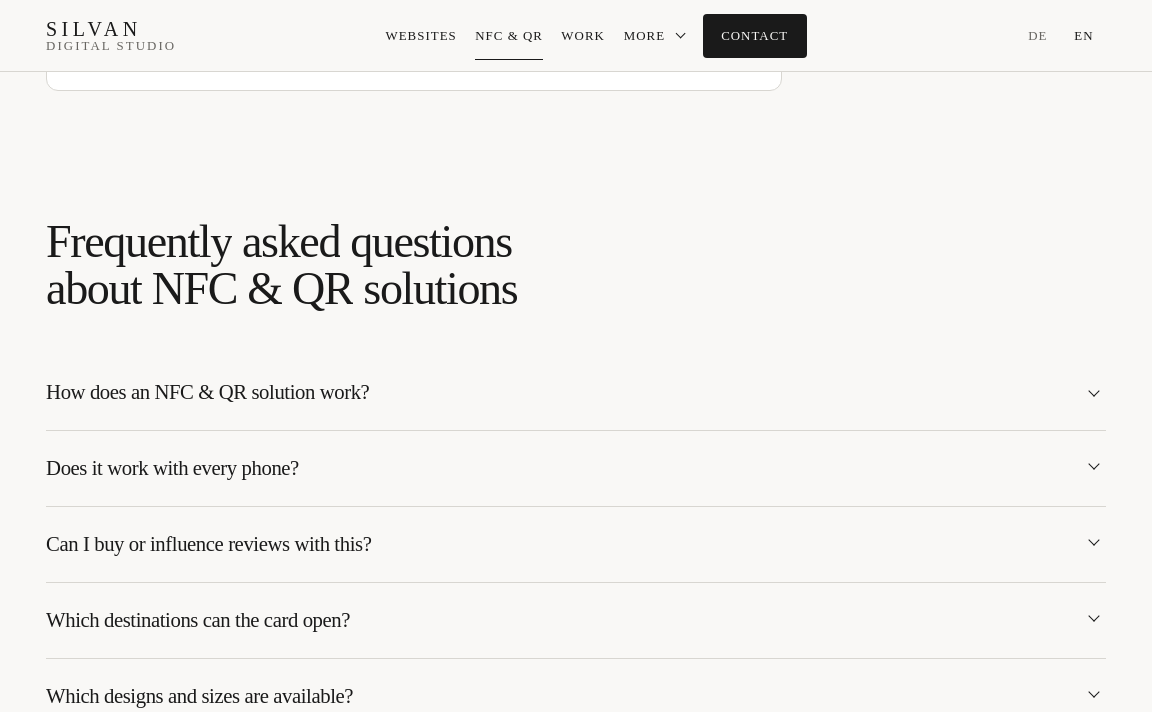
it: service page FAQs › renders every reviews (en) question with an accessible answer disclosure
(page scrolled)
expect the heading "Frequently asked questions about NFC & QR solutions" is shown: met, box [46,216,517,314]
What coordinates should you click on to do the following:
click the heading "How does an NFC & QR solution work?"
I would click on:
 (208, 392)
Its box is [46,382,369,404].
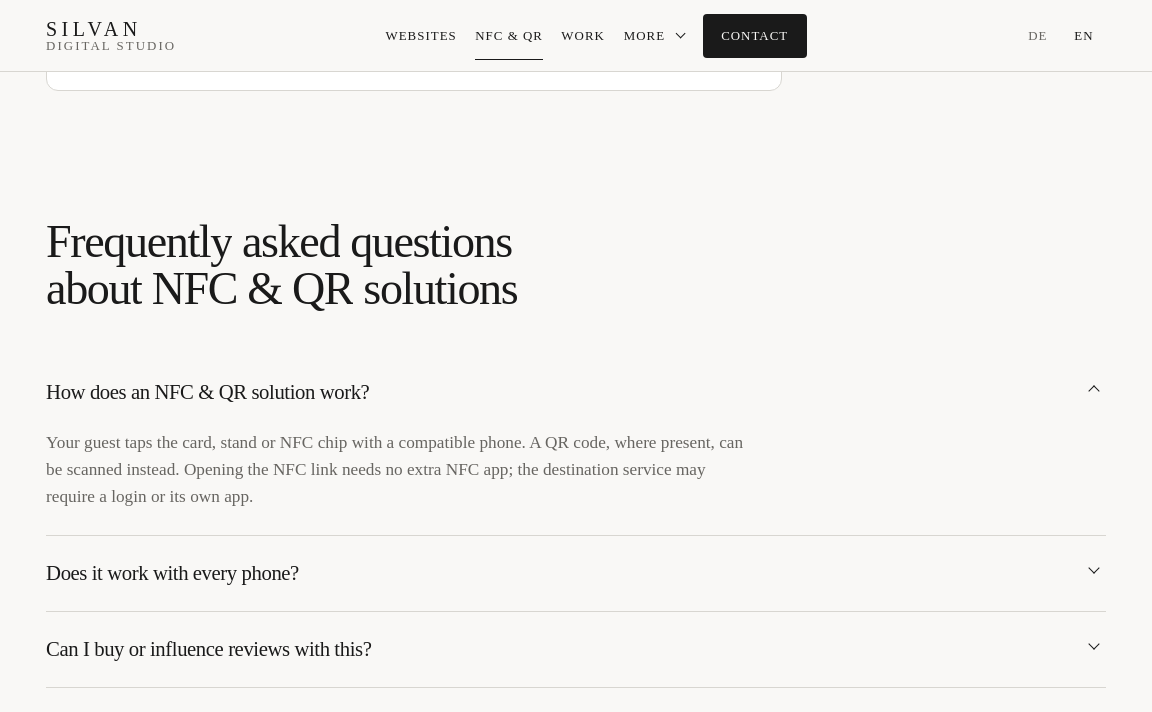
expect the text "Your guest taps the card, stand or NFC chip with a compatible phone. A QR code, where present, can be scanned instead. O" is shown: met, box [46,433,743,506]
What coordinates should you click on to do the following:
click the heading "Does it work with every phone?"
I would click on:
 (172, 573)
Its box is [46,562,299,584].
(page scrolled)
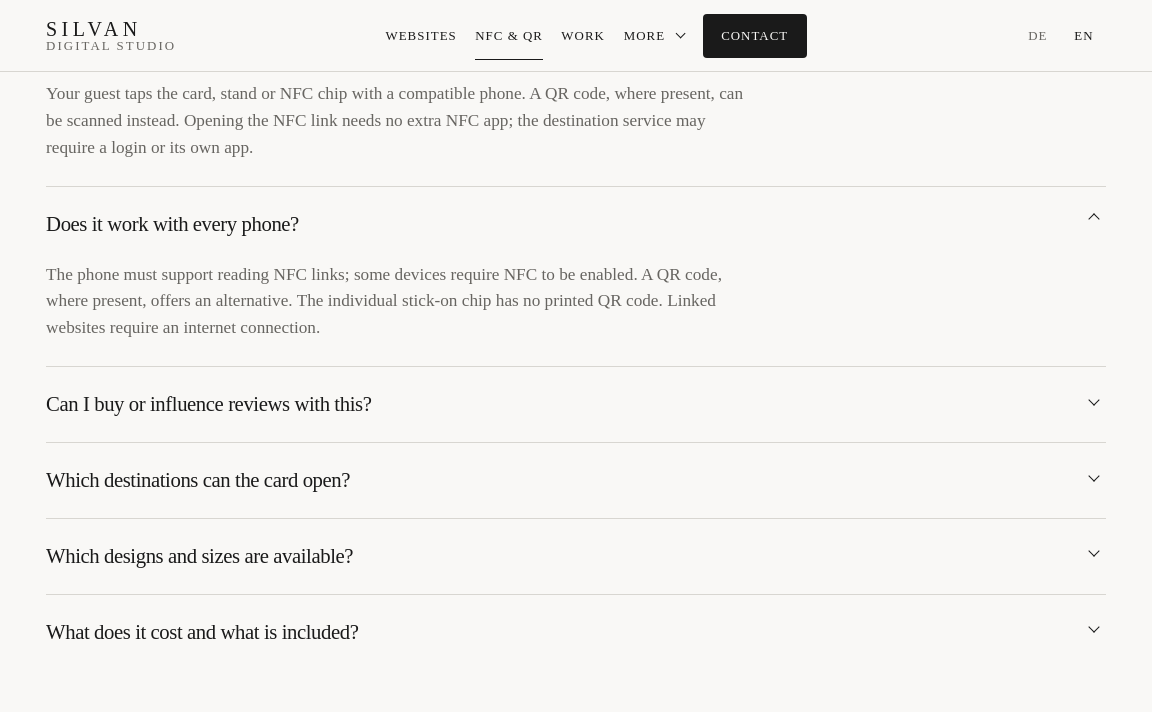
expect the text "The phone must support reading NFC links; some devices require NFC to be enabled. A QR code, where present, offers an al" is shown: met, box [46,265,722,337]
What coordinates should you click on to do the following:
click the heading "Can I buy or influence reviews with this?"
I would click on:
 (209, 404)
Its box is [46,393,371,415].
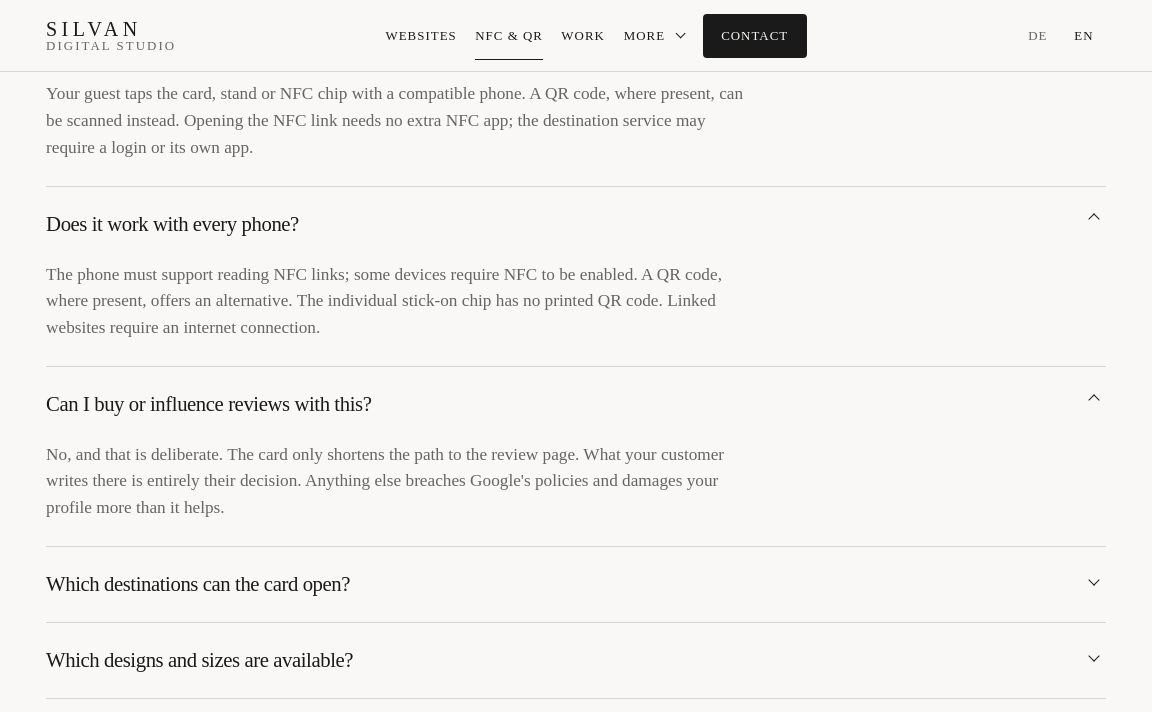
expect the text "No, and that is deliberate. The card only shortens the path to the review page. What your customer writes there is entir" is shown: met, box [46,445,724,517]
What coordinates should you click on to do the following:
click the heading "Which destinations can the card open?"
I would click on:
 (198, 584)
Its box is [46,573,350,595].
(page scrolled)
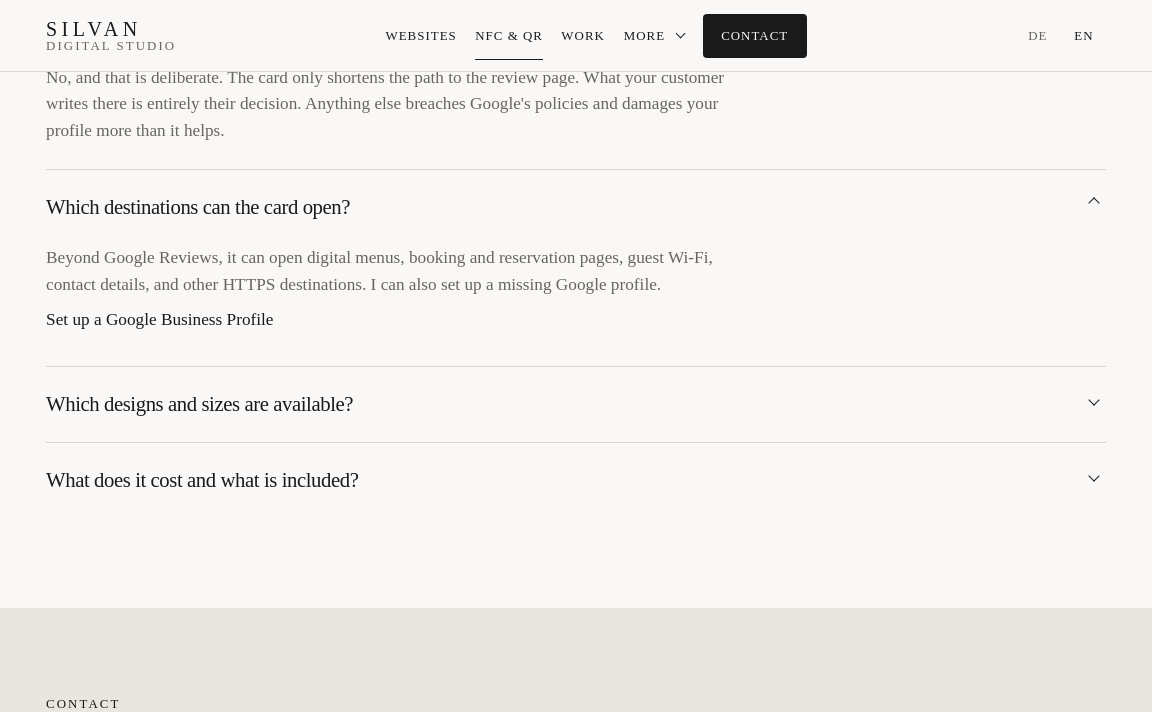
expect the text "Beyond Google Reviews, it can open digital menus, booking and reservation pages, guest Wi-Fi, contact details, and other" is shown: met, box [46,248,713,294]
What coordinates should you click on to do the following:
click the heading "Which designs and sizes are available?"
I would click on:
 (200, 404)
Its box is [46,393,353,415].
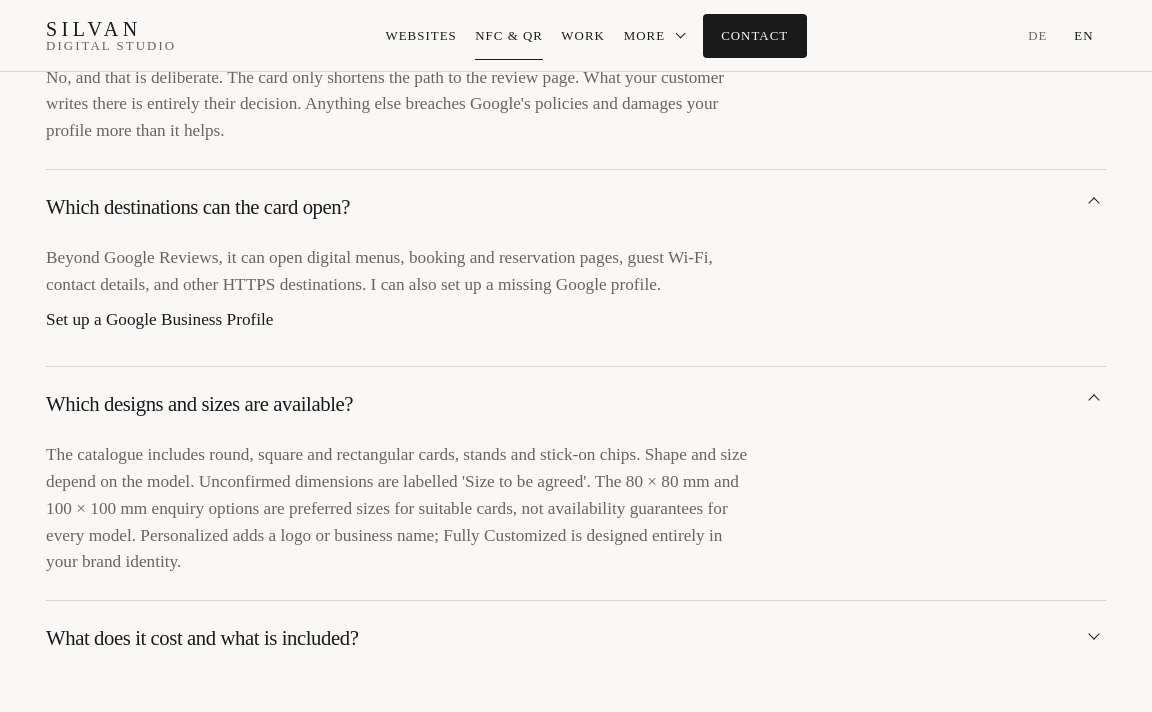
expect the text "The catalogue includes round, square and rectangular cards, stands and stick-on chips. Shape and size depend on the mode" is shown: met, box [46,445,747,571]
What coordinates should you click on to do the following:
click the heading "What does it cost and what is included?"
I would click on:
 (202, 638)
Its box is [46,627,358,649].
(page scrolled)
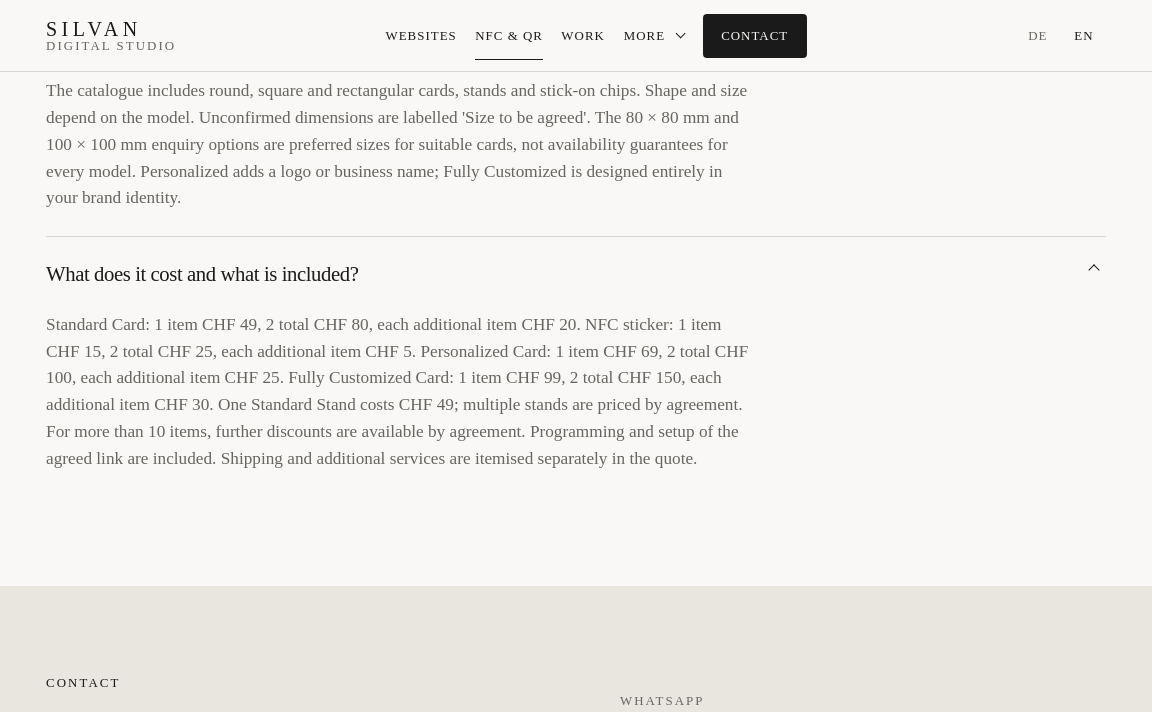
expect the text "Standard Card: 1 item CHF 49, 2 total CHF 80, each additional item CHF 20. NFC sticker: 1 item CHF 15, 2 total CHF 25, e" is shown: met, box [46,315,748,468]
